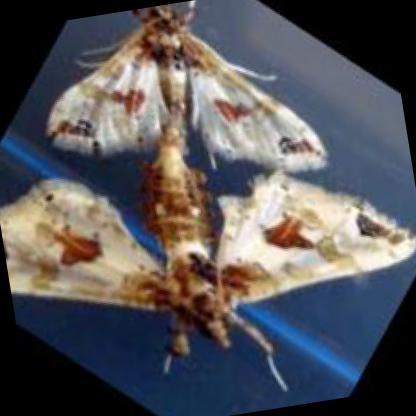leucinodes: (0, 147, 416, 346), (44, 5, 330, 165)
